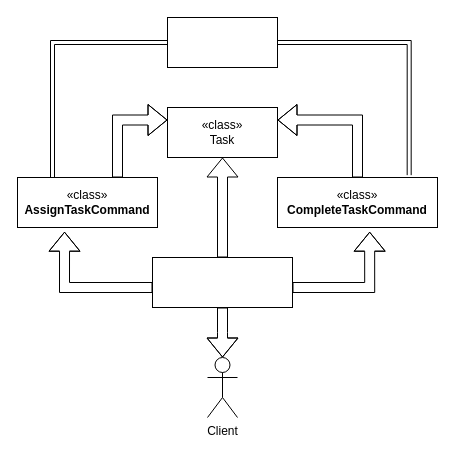
This 455x456 diagram has some shape labels left out. Here are the shapes that lost their labels. From the top down, the centre of each, then its label:
point (222, 42): «interface» Command
point (222, 282): «class» Main
